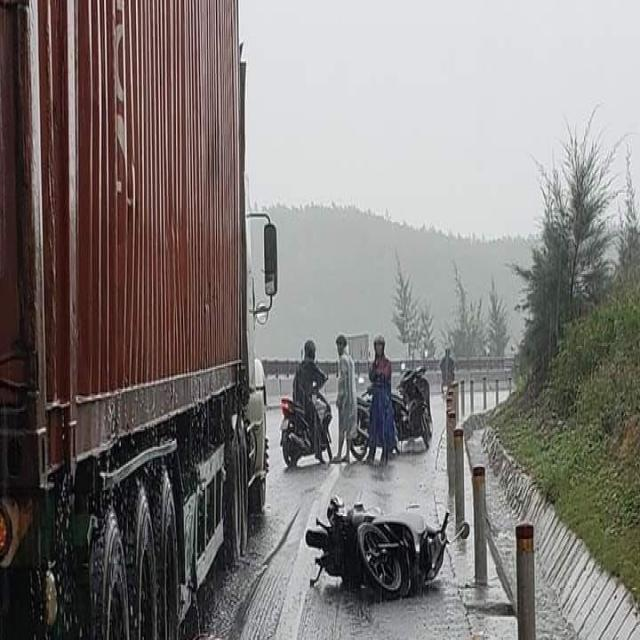accident: (303, 467, 467, 613)
